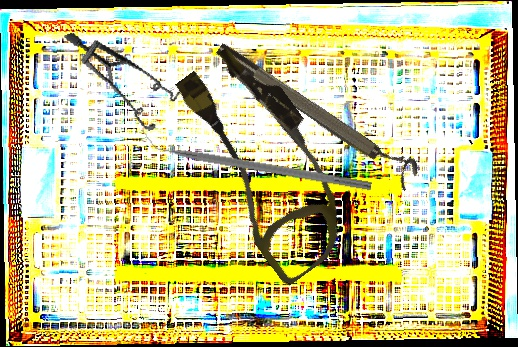Cannula: (151, 35, 379, 288)
Chopper: (140, 128, 375, 192)
Fixation Ring: (212, 30, 424, 192)
Speculum: (62, 6, 189, 148)
